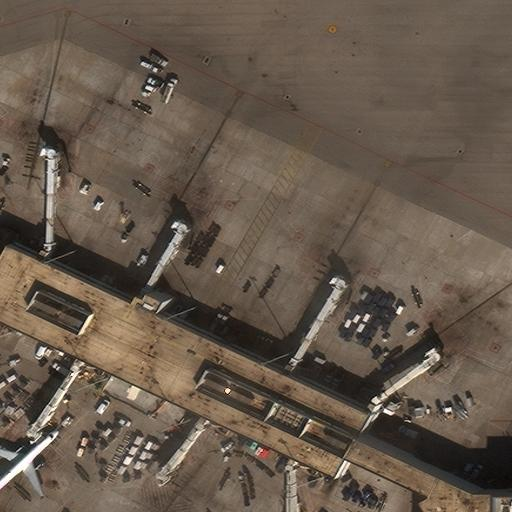Medium Civil Transport: (0, 431, 58, 500)
